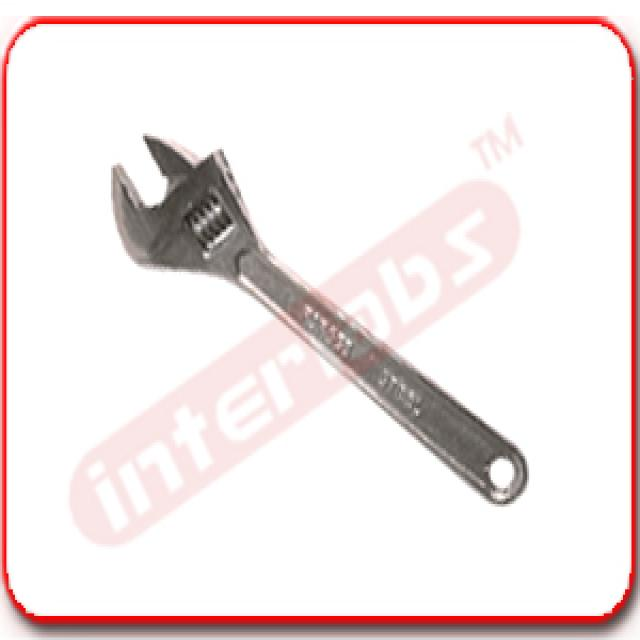wrench: (96, 114, 568, 517)
